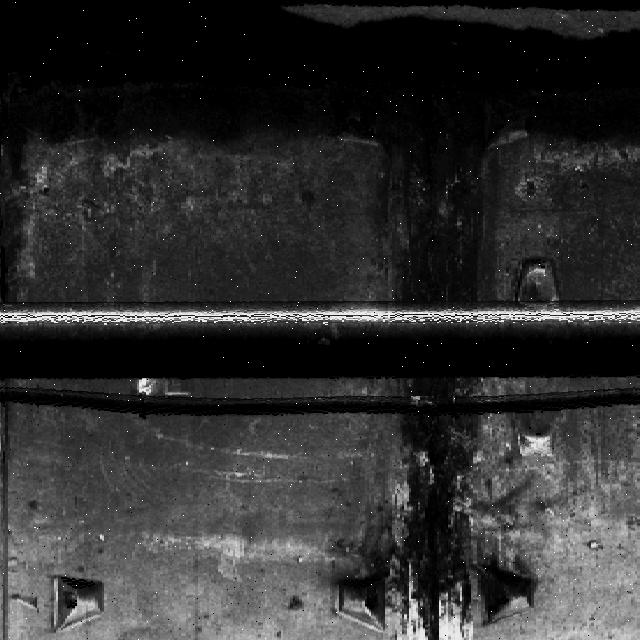leakage: (347, 7, 531, 308), (104, 0, 341, 157), (367, 368, 503, 639), (3, 0, 98, 306), (535, 24, 640, 148)
